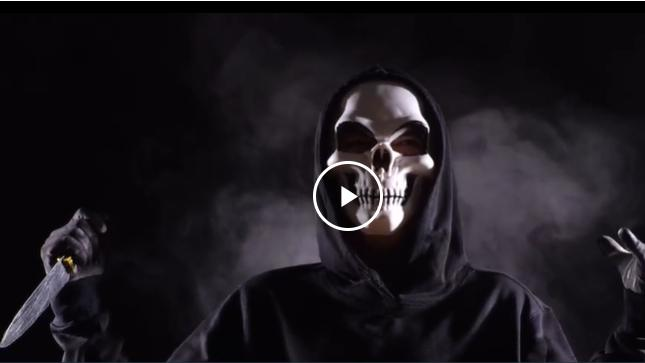Knife: (39, 69, 645, 363), (0, 258, 72, 348), (38, 207, 110, 280)
